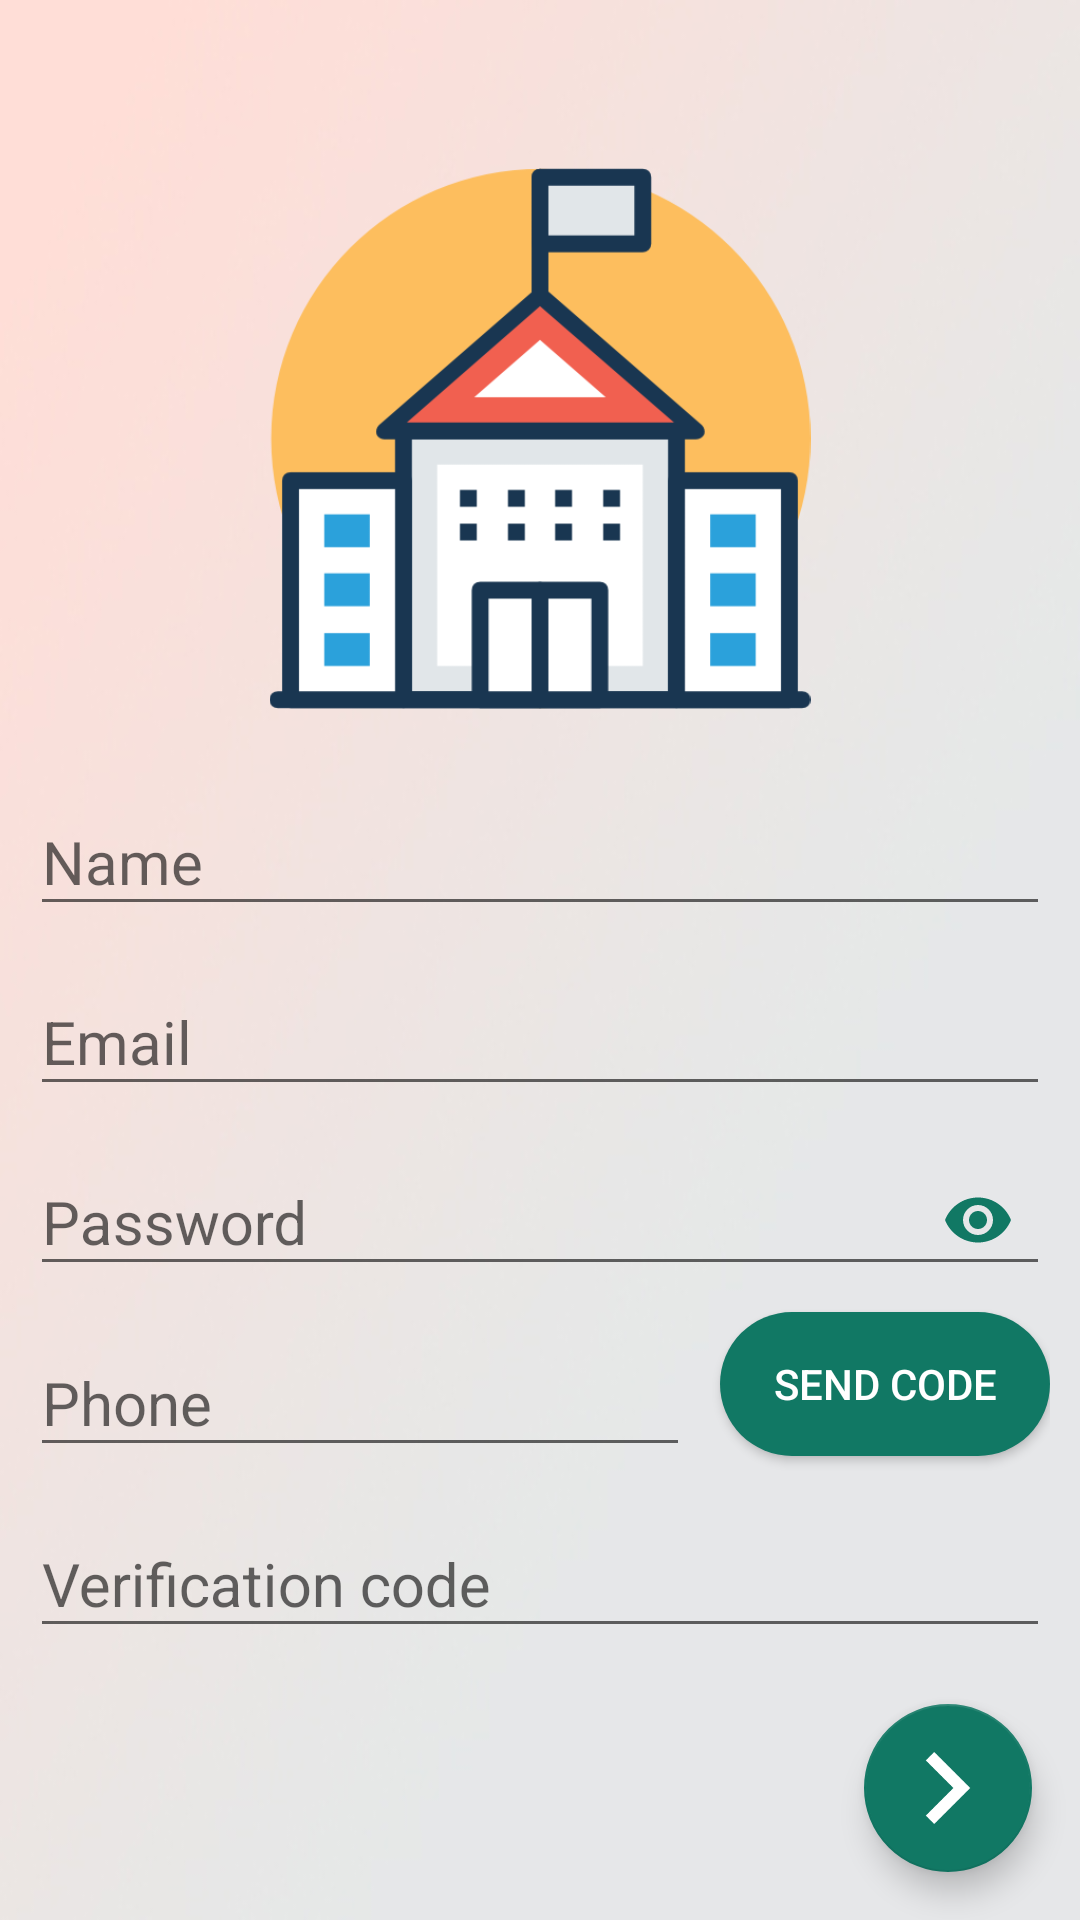

Where icons sit on this 1080px x 1920px app screen, as detection(x1, y1, x2, y2):
arrow: detection(864, 1704, 1032, 1872)
